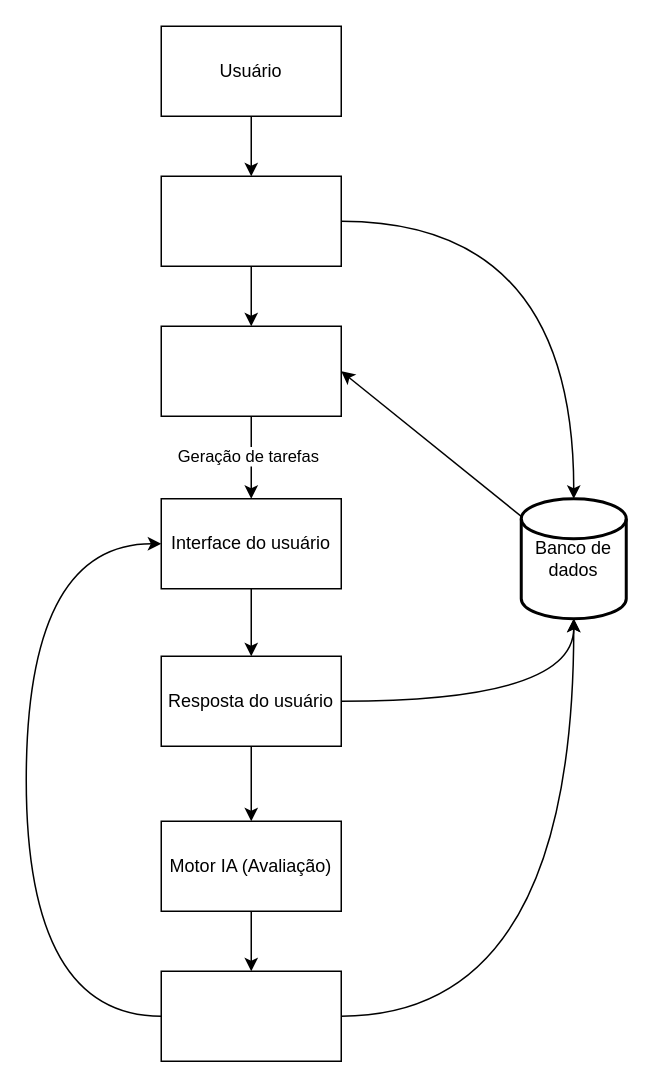
The diagram is 654 pixels wide and 1088 high, and some of its shapes have lost their labels. The centre of each missing label's shape, as x and y in pixels:
Definição de objetivos: (250,220)
Feedback/Resultados: (250,1015)
Motor IA (Geração): (250,370)
